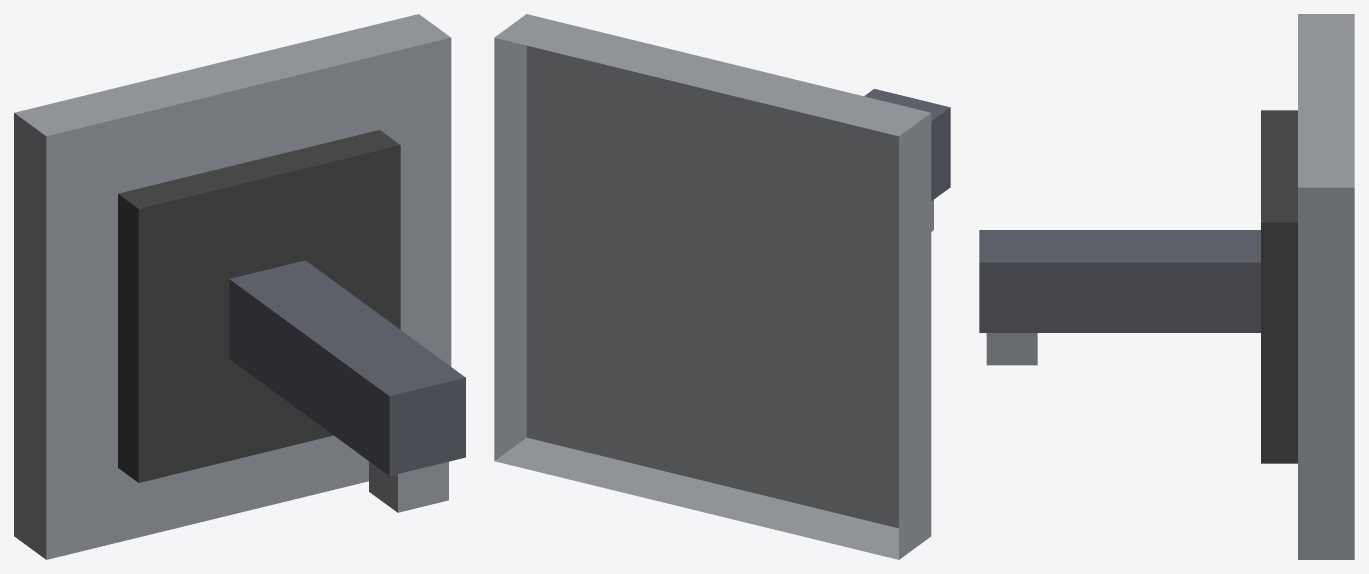
Rendered from Shower_2.fbx.
3 renders of one model, left to right at view 1: azimuth 30°, elevation 25°; view 2: azimuth 150°, elevation 25°; view 3: azimuth 270°, elevation 25°, orthographic. The views are drawn at different scales.
Visible parts, largest first — view 1: polySurface1553; view 2: polySurface1553; view 3: polySurface1553.
Part boxes in pixels (x1,y1,x2,y2): polySurface1553: (14,14,465,559); polySurface1553: (494,14,950,559); polySurface1553: (979,14,1354,559).
Bounding box in the file's own units: 0.3794 × 0.3794 × 0.3466.
Materials: 1 (1 with a texture image).
